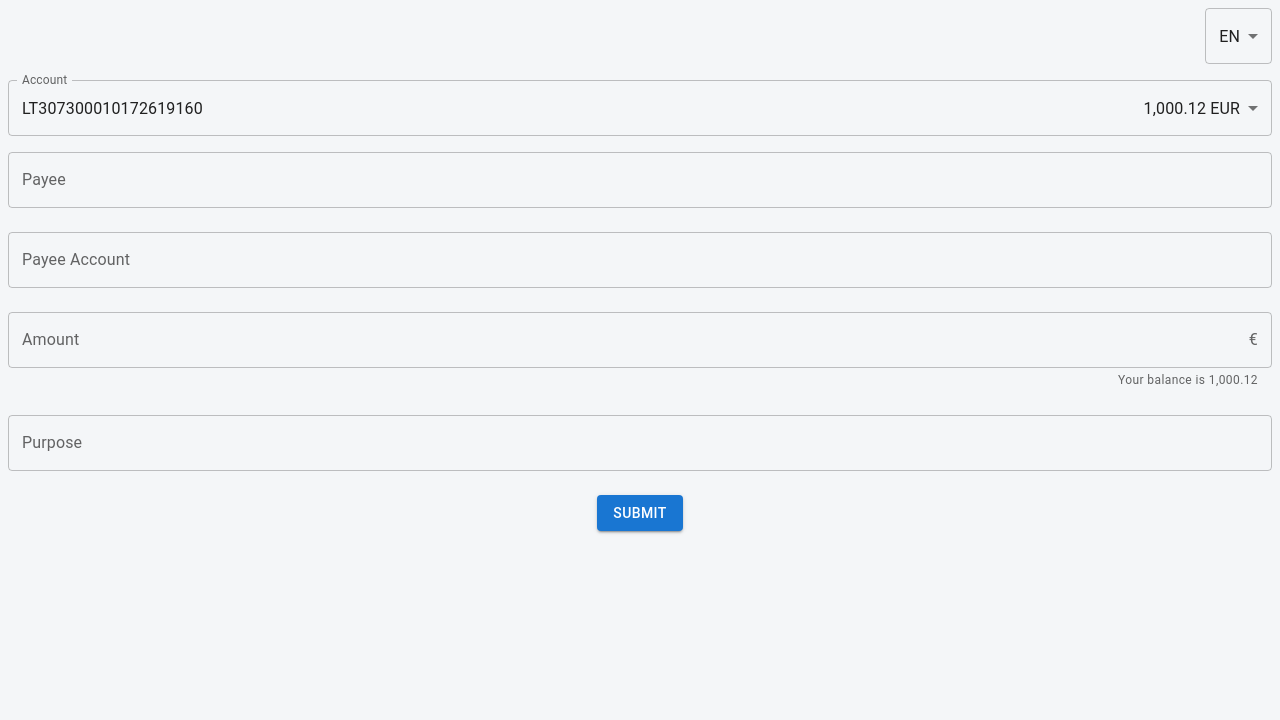
Test: should show validation errors on all fields when submitting with empty values
Submit the form
Click the button with test id "submit-button" at (640, 513), box [597,495,683,531]
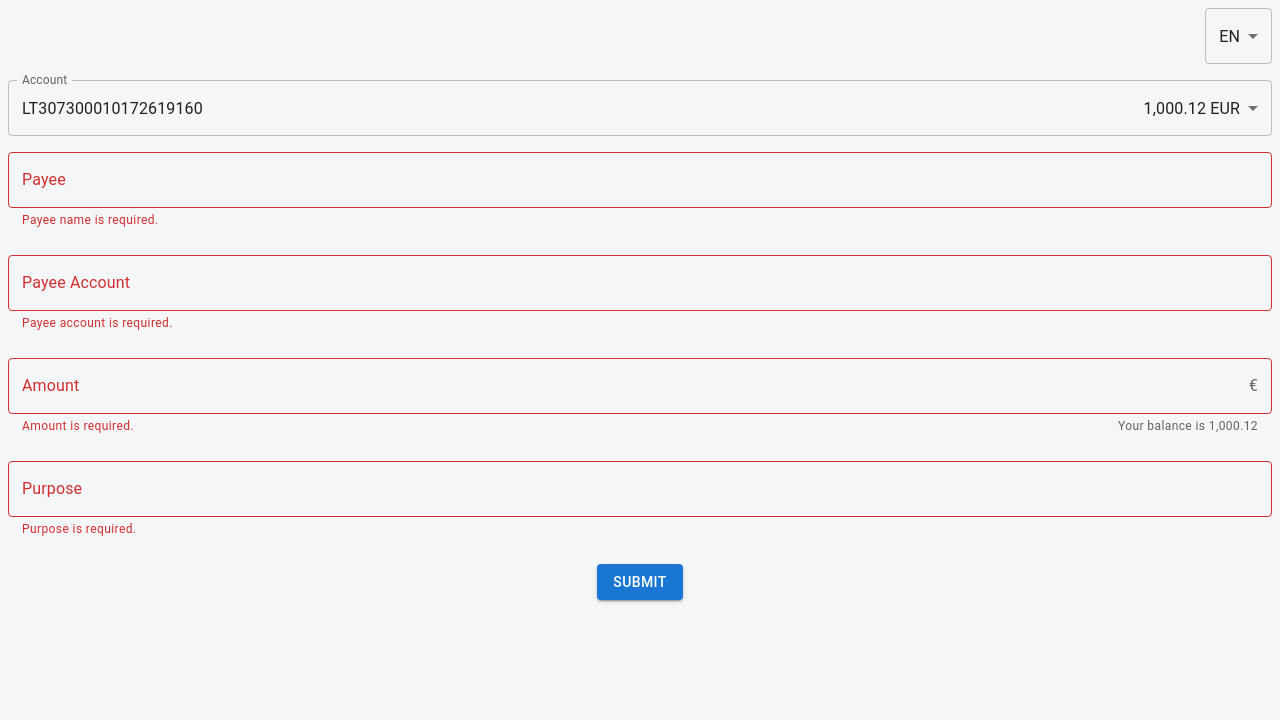
Result: the text "Payee account is required." is shown at [22,316,173,330]
Result: the text "Payee name is required." is shown at [22,213,158,227]
Result: the text "Amount is required." is shown at [22,417,134,437]
